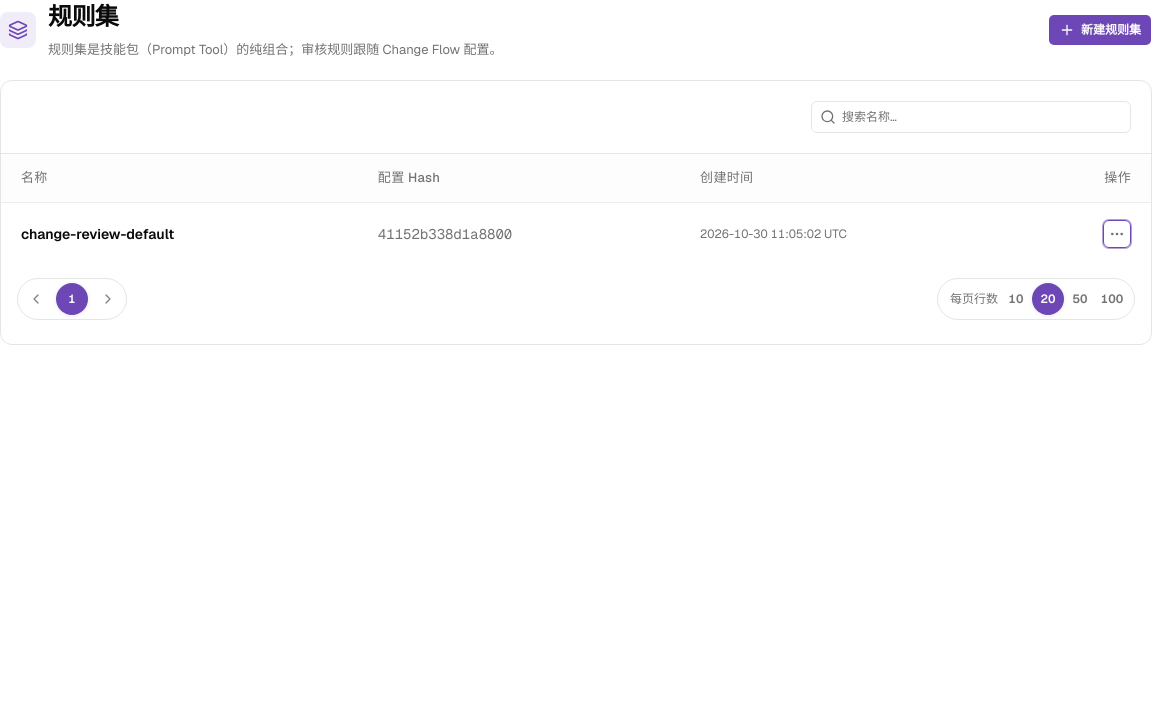
Scenario: gate: 配置Hash与Review失效影响明确（owner裁定：列表不展示，挪入编辑对话框） › previews rule-set impact: bound flows and the hash-change warning
This screenshot has width=1152, height=720.
Expected: the cell with test id "rule-set-hash" is shown, [358,202,680,266]
Step 1. Press Enter
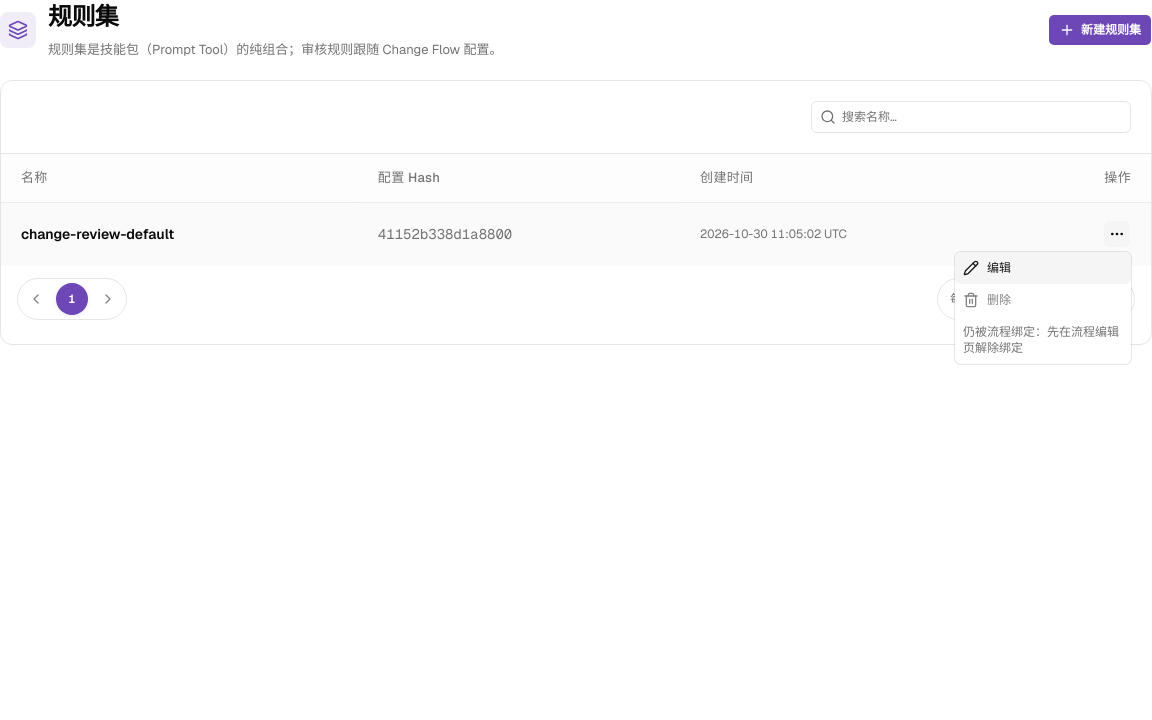
Step 2. Click the menu item with test id "rule-set-edit-" → click(1043, 268), box [955,252,1131,284]
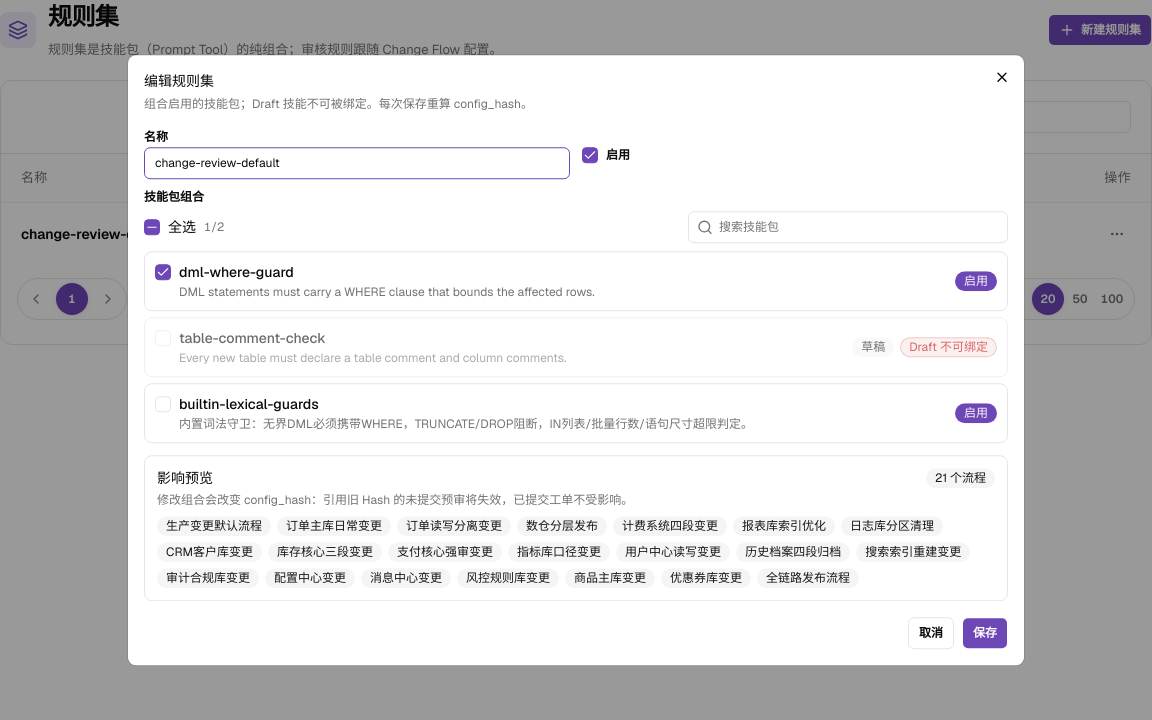
Result: the text "21 个流程" is shown at [926,468,995,488]
Result: the text "生产变更默认流程" is shown at [166,518,262,534]
Result: the text "修改组合会改变 config_hash：引用旧 Hash 的未提交预审将失效，已提交工单不受影响。" is shown at [157,492,633,508]
